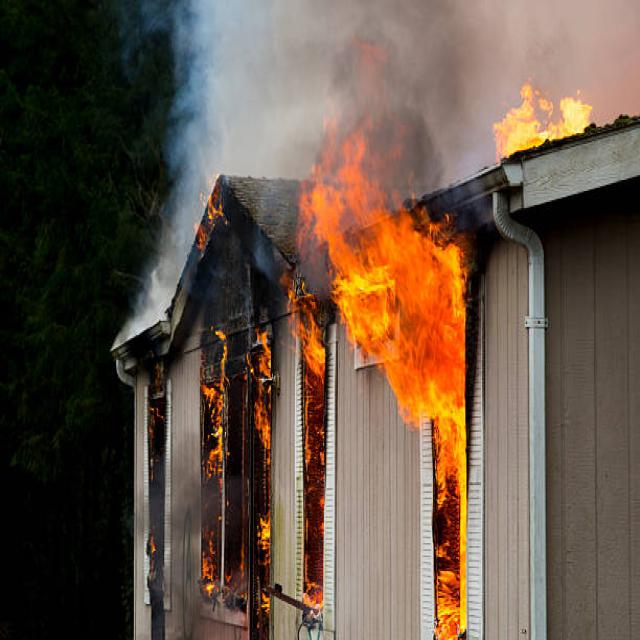fire: (306, 94, 475, 439), (189, 172, 282, 582), (489, 76, 598, 160), (143, 393, 173, 495)
